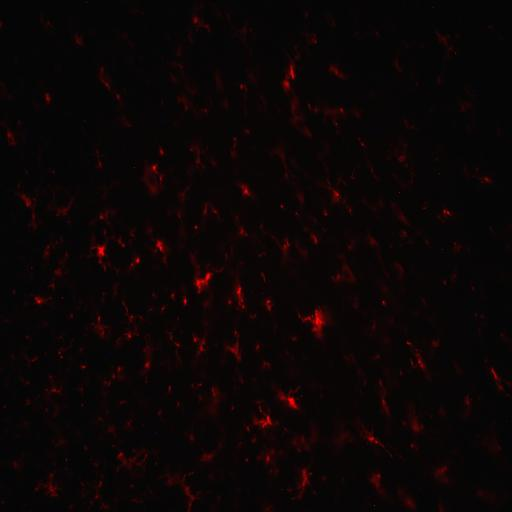microglia: (42, 180, 78, 222), (311, 99, 353, 128), (321, 170, 348, 213), (83, 465, 109, 507), (288, 96, 312, 140), (362, 428, 396, 457), (403, 338, 429, 371), (301, 304, 329, 334), (278, 151, 300, 186), (188, 142, 212, 174), (34, 472, 62, 498), (402, 402, 426, 432), (363, 228, 385, 260), (291, 465, 312, 498), (86, 242, 108, 272), (191, 268, 214, 296), (90, 314, 113, 342), (434, 29, 454, 61), (489, 365, 510, 395), (231, 279, 250, 312), (222, 339, 245, 364), (333, 260, 356, 285), (286, 384, 306, 412), (208, 382, 224, 417), (389, 202, 412, 226), (190, 13, 214, 35), (468, 165, 494, 185), (164, 470, 196, 486), (197, 443, 221, 464), (290, 430, 311, 454), (254, 412, 279, 432), (0, 121, 18, 147), (116, 450, 137, 472), (56, 337, 75, 361), (140, 344, 154, 376), (399, 488, 419, 510), (36, 10, 54, 33), (379, 392, 394, 419), (138, 446, 154, 471), (302, 26, 320, 48), (97, 63, 111, 90), (278, 237, 292, 263), (15, 188, 33, 208), (272, 381, 287, 405), (342, 347, 359, 368), (238, 180, 256, 199), (28, 199, 39, 230), (260, 296, 277, 316), (195, 336, 209, 360), (328, 63, 349, 79), (184, 486, 197, 511), (167, 331, 181, 353), (457, 97, 475, 114), (390, 261, 405, 281), (126, 255, 143, 272), (122, 300, 134, 324), (176, 93, 190, 112), (462, 392, 475, 412), (145, 162, 160, 179), (433, 464, 448, 481), (230, 132, 240, 157), (45, 383, 65, 395), (260, 357, 274, 374), (114, 86, 127, 104), (197, 202, 210, 220), (94, 149, 105, 170), (452, 240, 467, 255), (72, 32, 85, 49), (159, 254, 172, 271), (212, 201, 222, 223), (115, 364, 127, 382), (370, 472, 382, 490), (286, 61, 296, 82), (33, 296, 53, 306), (238, 78, 249, 96), (280, 77, 292, 93), (57, 251, 70, 265), (370, 350, 383, 364), (236, 224, 248, 239), (42, 244, 52, 262), (124, 328, 134, 345), (157, 174, 166, 192), (189, 328, 199, 344), (157, 142, 167, 158), (125, 414, 135, 430), (377, 376, 387, 392), (102, 377, 112, 392), (53, 266, 65, 278), (190, 381, 205, 390), (442, 206, 454, 217), (78, 362, 88, 375), (253, 340, 263, 353), (258, 269, 267, 283), (243, 125, 254, 136), (44, 92, 53, 105), (110, 369, 119, 382), (154, 406, 163, 419), (182, 294, 190, 308), (47, 281, 58, 291), (302, 9, 311, 21), (174, 398, 183, 409), (165, 384, 174, 394), (367, 433, 376, 443), (0, 17, 6, 31), (82, 441, 89, 453), (310, 234, 317, 244), (230, 402, 236, 413), (197, 394, 205, 402), (398, 155, 406, 163), (156, 240, 163, 249), (117, 452, 124, 459), (266, 454, 270, 463), (396, 190, 402, 196), (284, 239, 289, 246), (336, 274, 341, 280), (193, 17, 197, 23), (324, 210, 328, 216), (161, 306, 165, 311), (12, 290, 16, 294), (100, 215, 104, 219), (228, 300, 232, 304), (266, 300, 270, 304), (382, 300, 385, 305), (98, 316, 100, 323), (280, 204, 283, 208), (194, 225, 197, 229), (361, 142, 364, 146), (130, 263, 134, 266), (443, 280, 446, 284), (172, 294, 174, 298), (60, 356, 64, 358), (38, 300, 40, 304), (123, 244, 125, 247), (81, 404, 83, 406)
